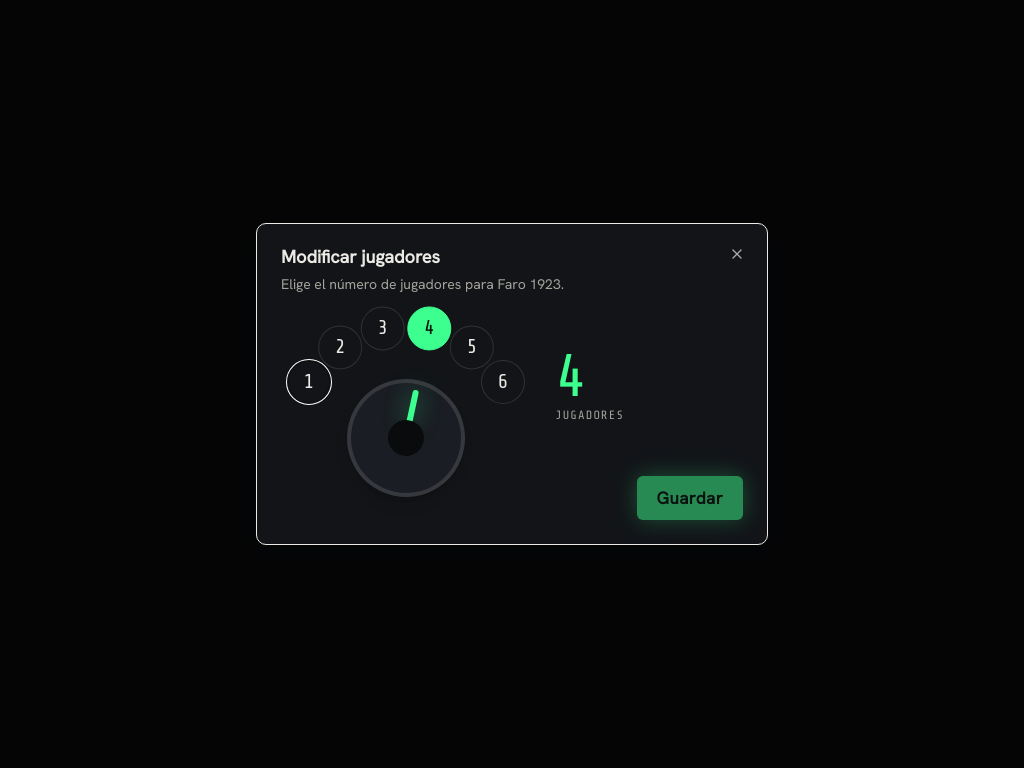
Test: ModifyPlayersDialog › shows the invalid-players message and stays open when the API refuses (BR-B2)
This screenshot has width=1024, height=768.
What coordinates should you click on to do the following:
click the button "5"
I would click on:
 (472, 347)
Its box is left=450, top=325, right=494, bottom=369.
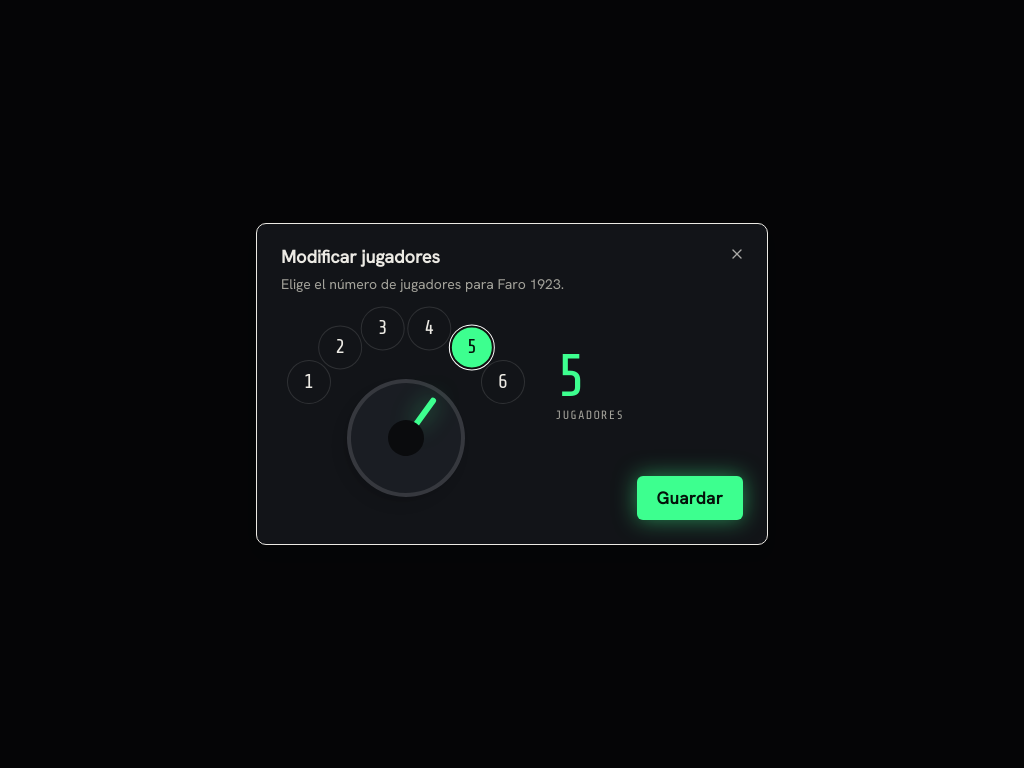
What coordinates should you click on to do the following:
click the button "Guardar"
I would click on:
 (690, 498)
Its box is left=637, top=476, right=743, bottom=520.
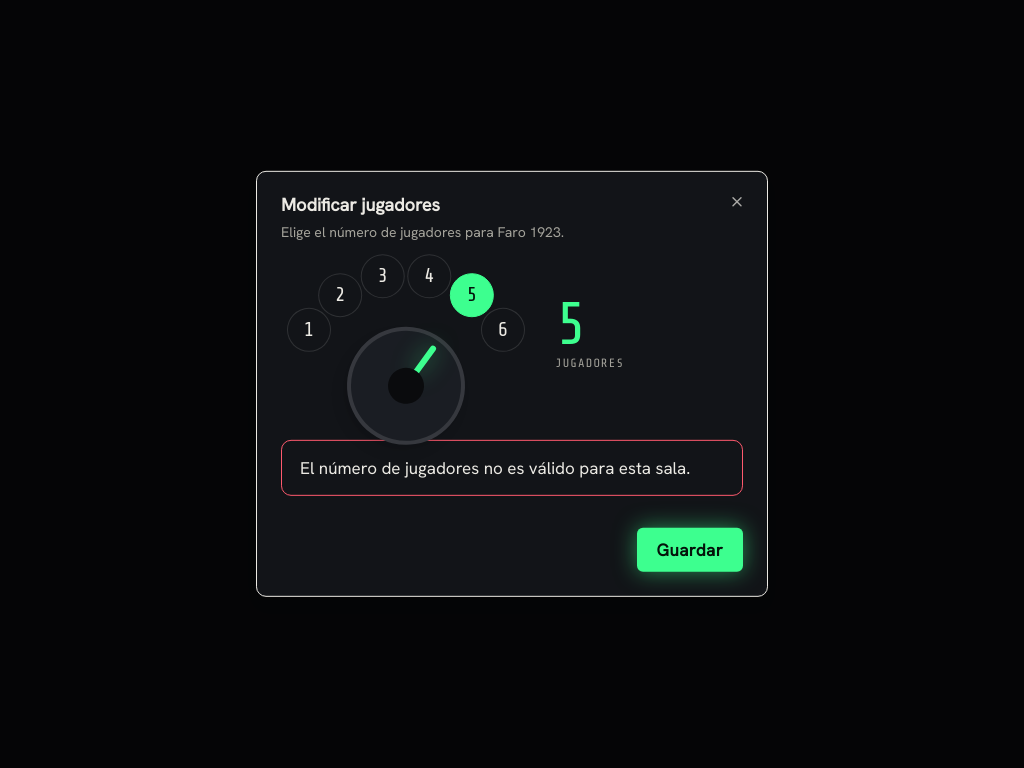
Expected: the message reads "El número de jugadores no es válido para esta sala.", left=300, top=457, right=690, bottom=479
